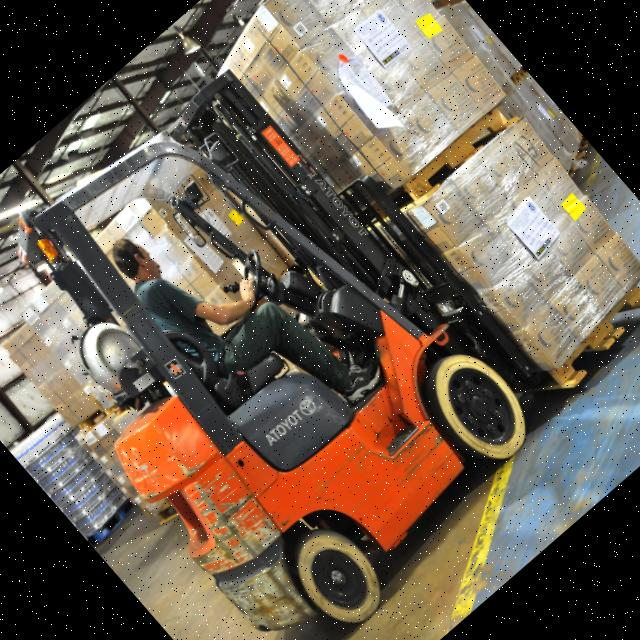Person: (99, 165, 389, 469)
